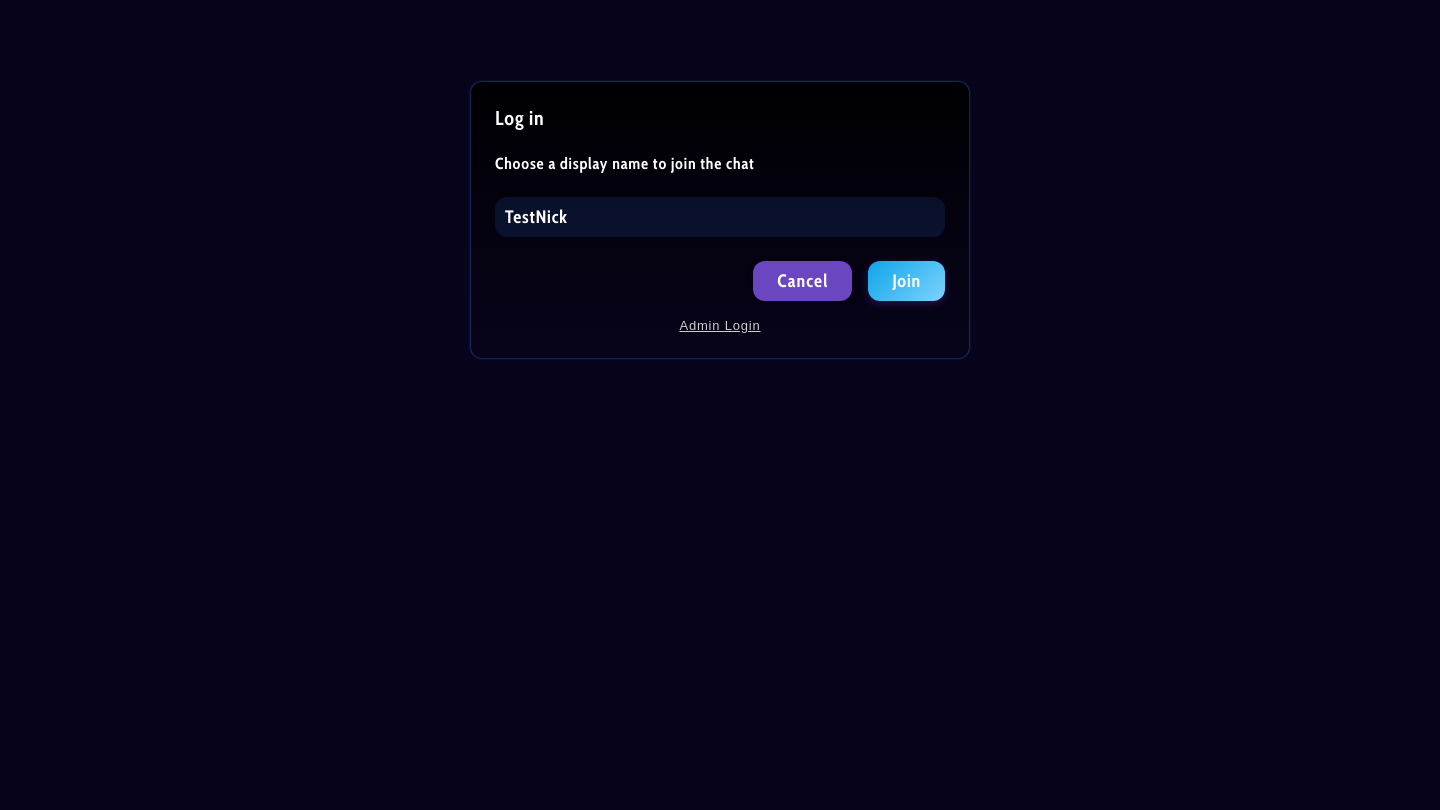
Scenario: LoginModal › can switch back to username mode
Click the button "Admin Login" at point(720, 326), box 674,317 -> 767,334
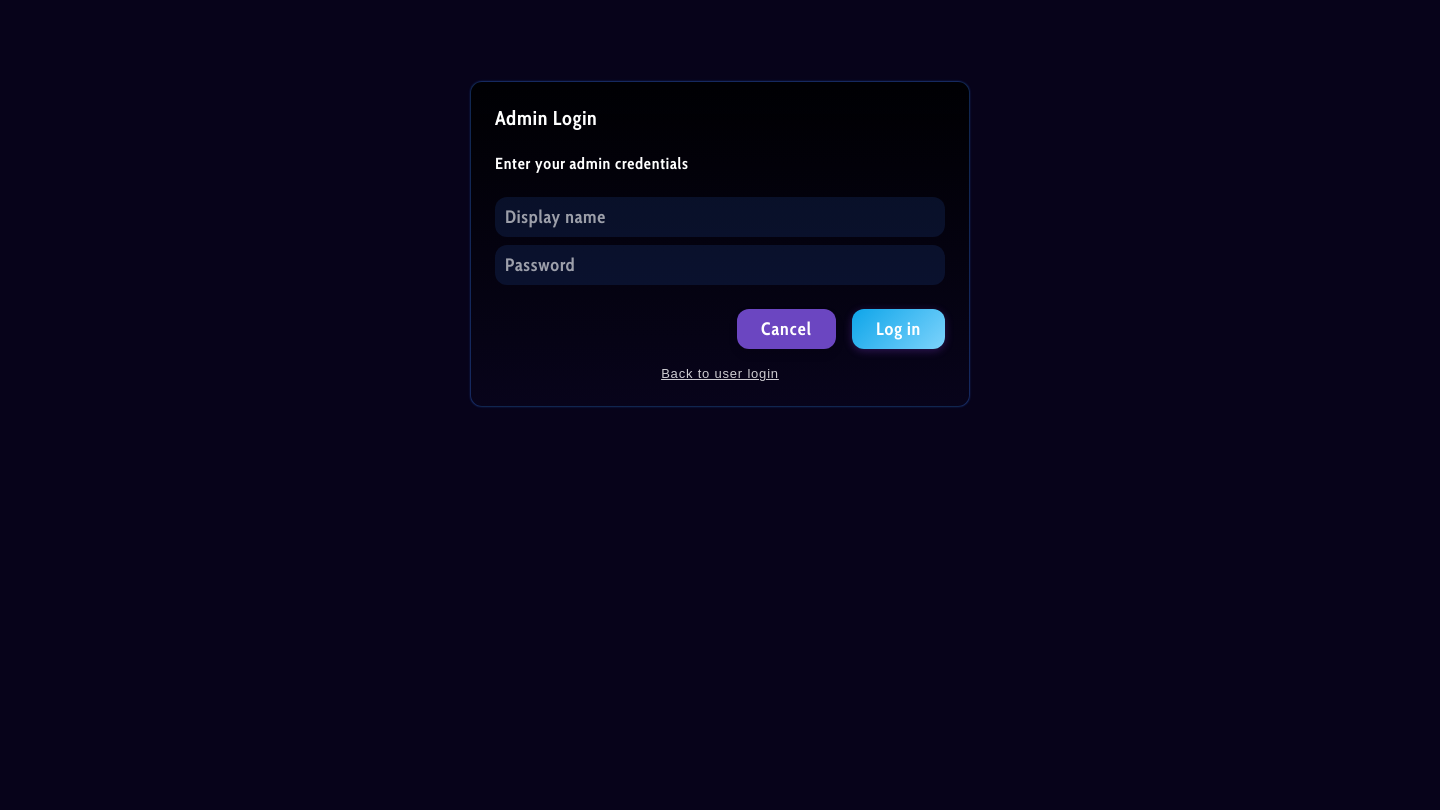
Click the button "Back to user login" at point(720, 374), box 655,365 -> 785,382
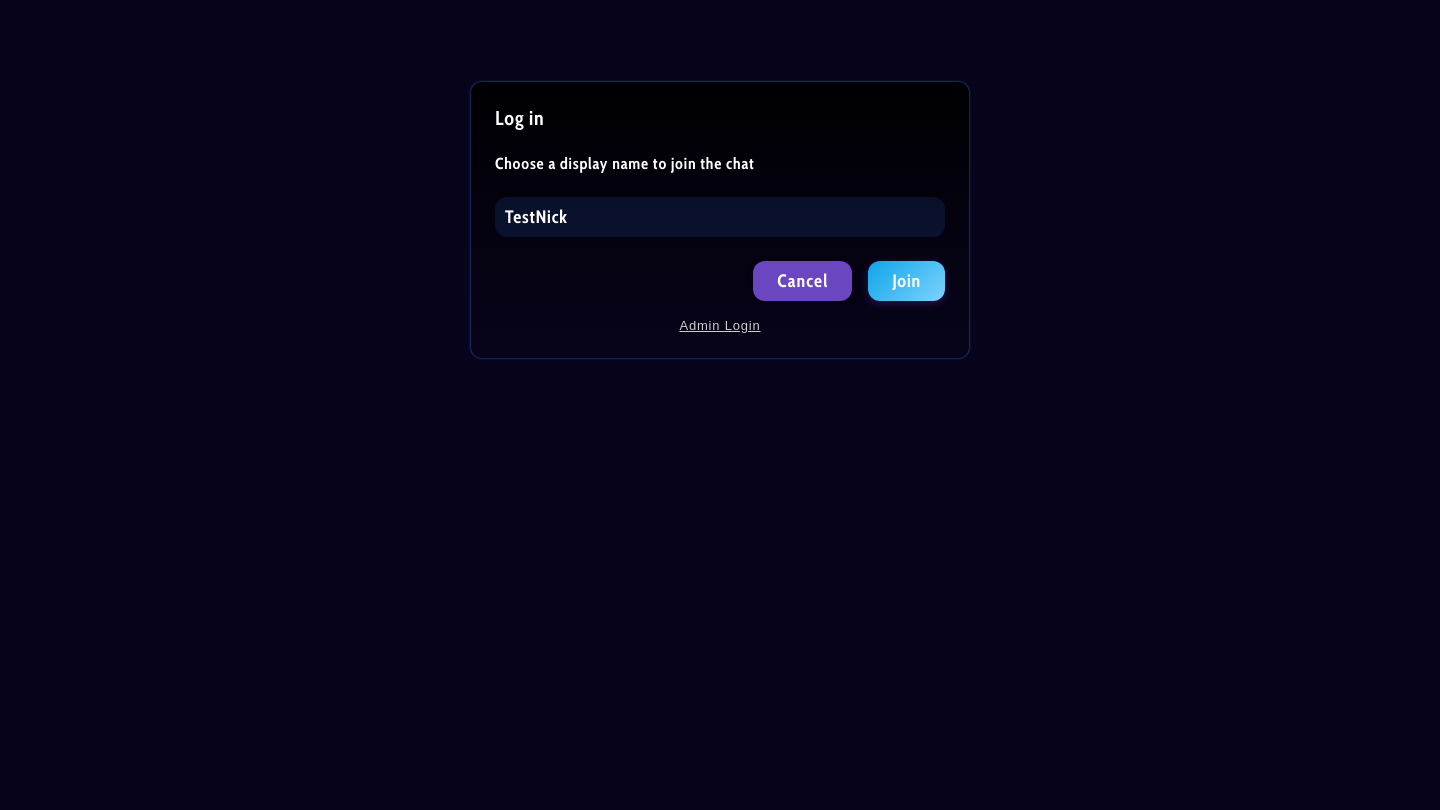
Expected: the text "Choose a display name to join the chat" is shown, 495,154 -> 754,173
